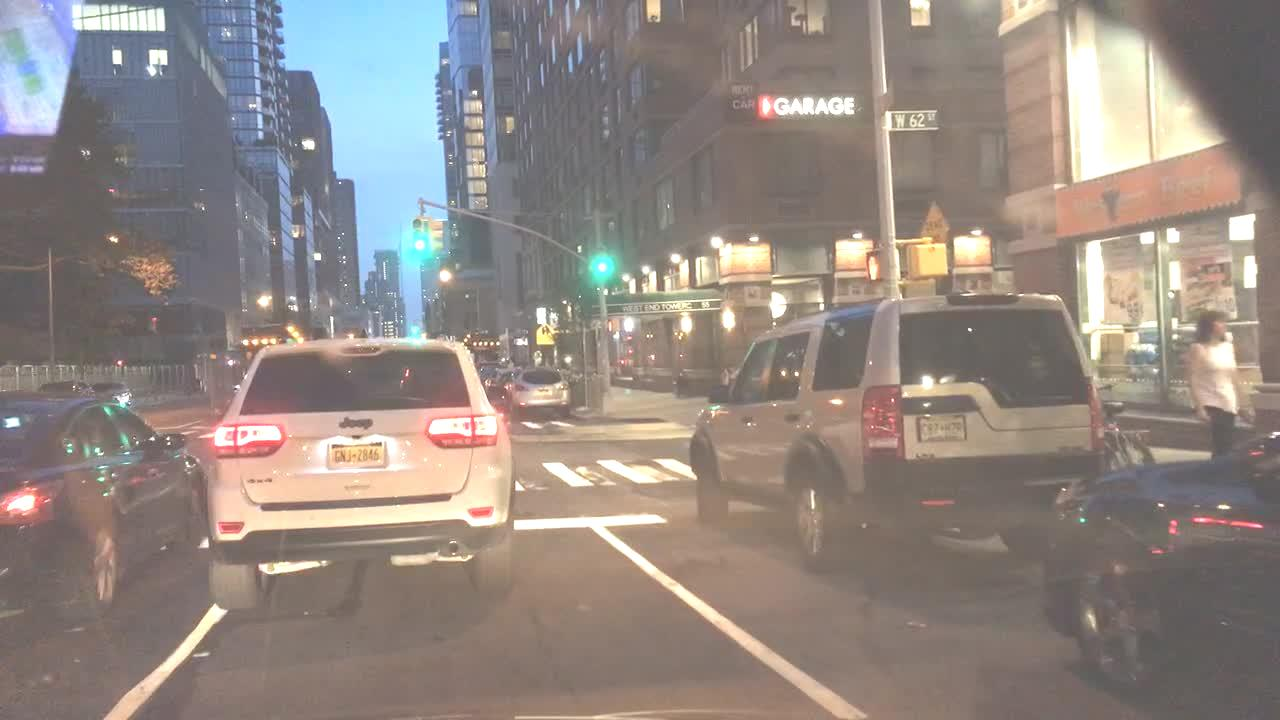jeep: (332, 411, 380, 437)
